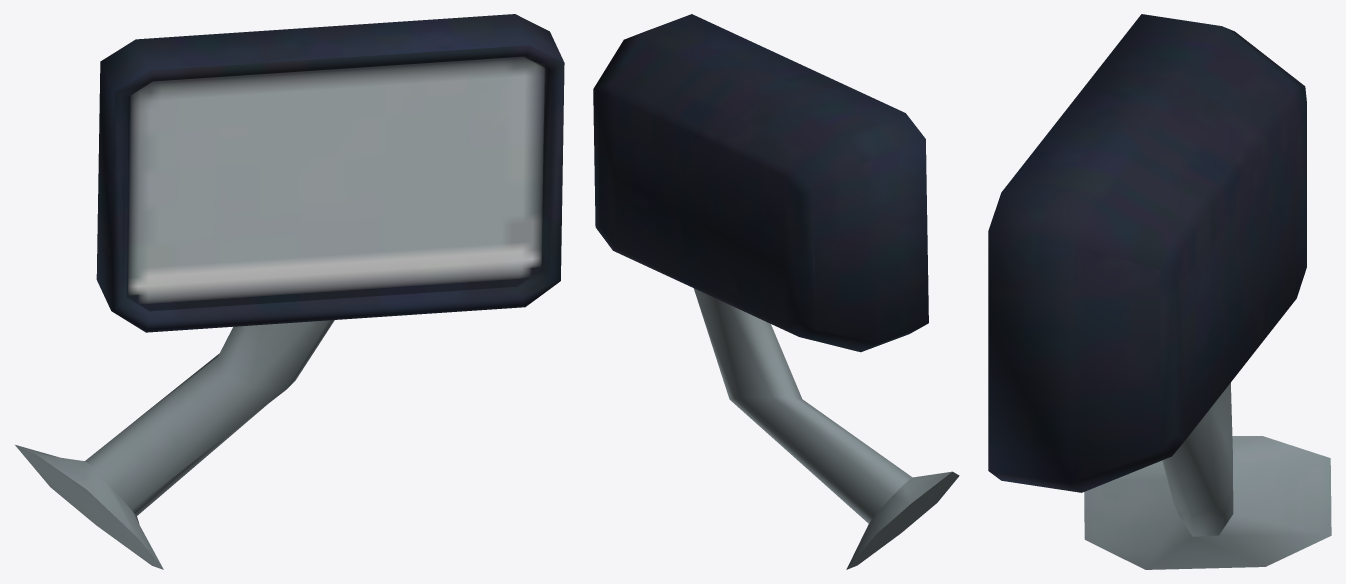
File: part_8_mirror_r.fbx
3 renders of one model, left to right at view 1: azimuth 30°, elevation 25°; view 2: azimuth 150°, elevation 25°; view 3: azimuth 270°, elevation 25°, orthographic. The views are drawn at different scales.
Parts seen in each view (by area): view 1: part_8_mirror_r.001; view 2: part_8_mirror_r.001; view 3: part_8_mirror_r.001.
Part boxes in pixels (x1,y1,x2,y2): part_8_mirror_r.001: (15, 14, 564, 569); part_8_mirror_r.001: (593, 14, 959, 569); part_8_mirror_r.001: (988, 14, 1331, 569).
Size of the model in its own units: 13.98 by 15.54 by 8.73.
